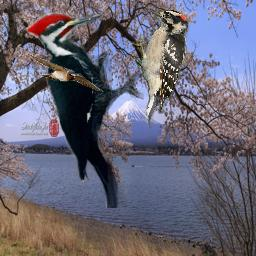Swallow: (26, 52, 104, 92)
Woodpecker: (27, 9, 144, 208), (132, 10, 190, 129)
